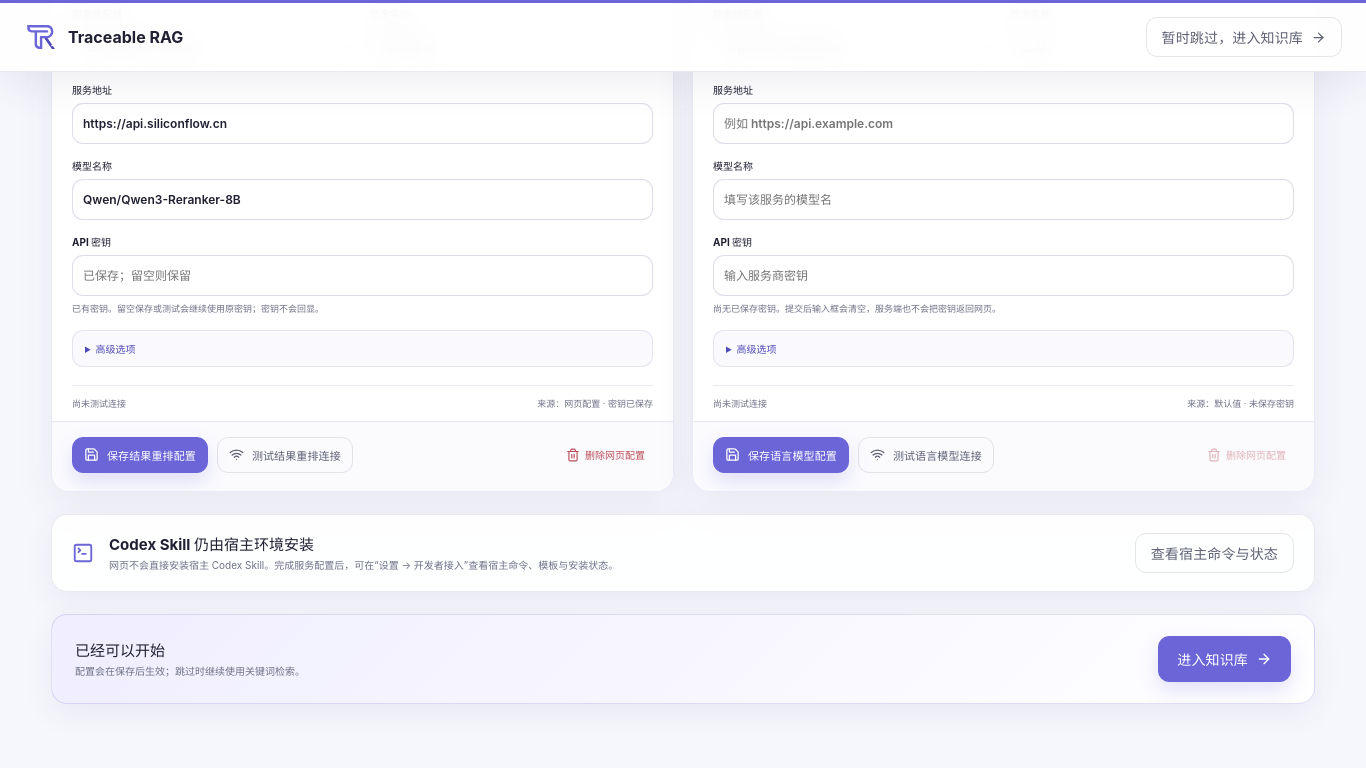
Scenario: Provider setup and management › tests with the saved secret, deletes only stored profiles and refreshes the environment fallback
The image size is (1366, 768).
(page scrolled)
Click the button "测试结果重排连接".
click(285, 454)  # box [217,436,353,472]
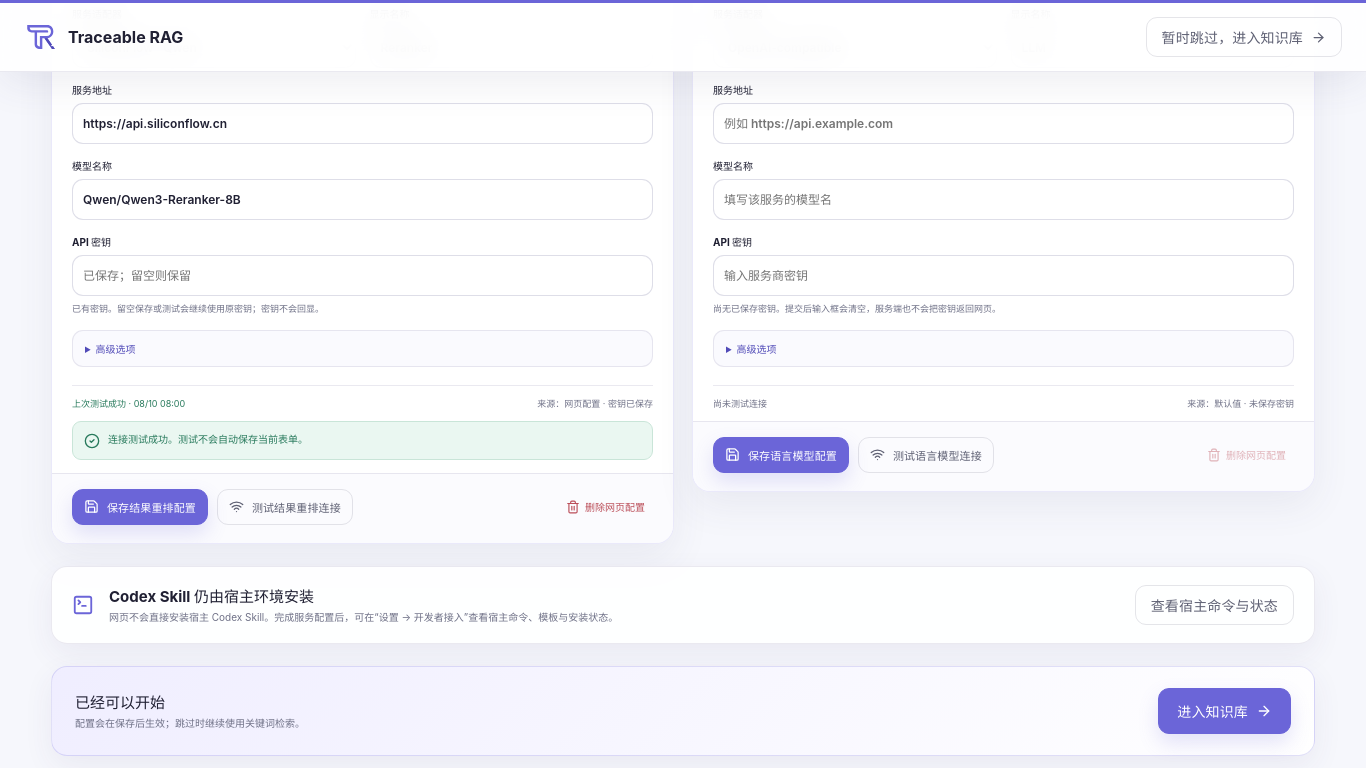
Now the message shows "测试不会自动保存", box [108,432,308,444]
Click the button "删除网页配置" below "连接测试成功。测试不会自动保存当前表单。".
click(606, 506)  # box [558,490,653,524]
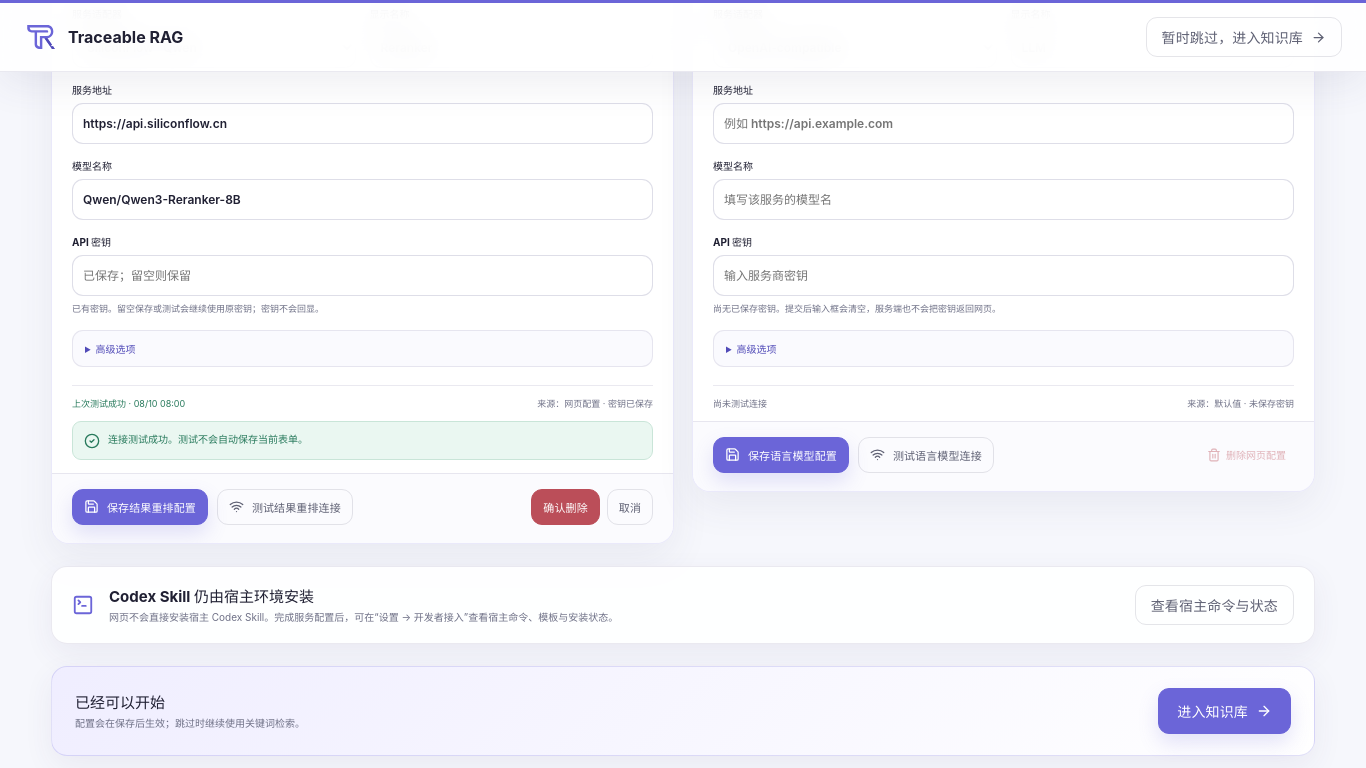
Click the button "确认删除".
click(566, 506)  # box [531,488,600,524]
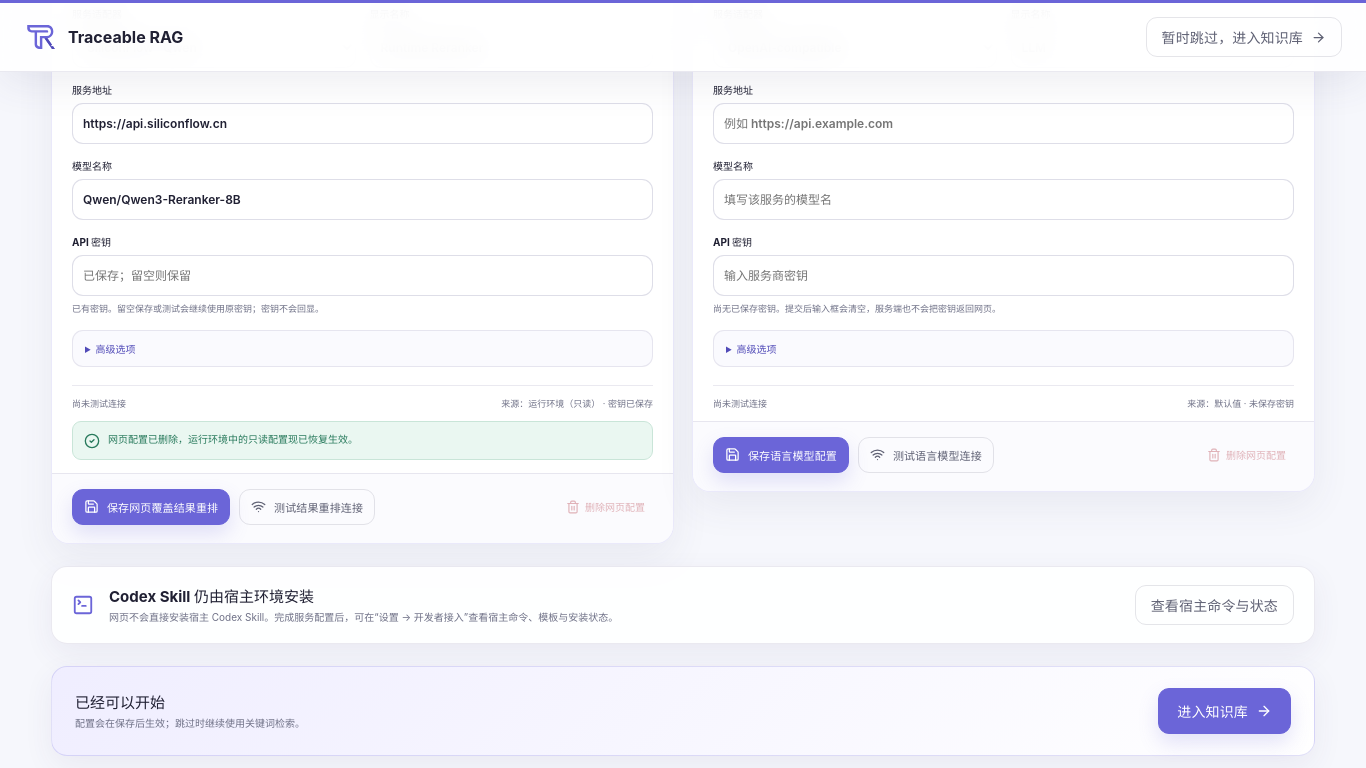
Now the text "网页配置已删除，运行环境中的只读配置现已恢复生效。" is shown, box [108,432,358,447]
Now the text "来源：运行环境（只读） · 密钥已保存" is shown, box [501,396,653,410]
